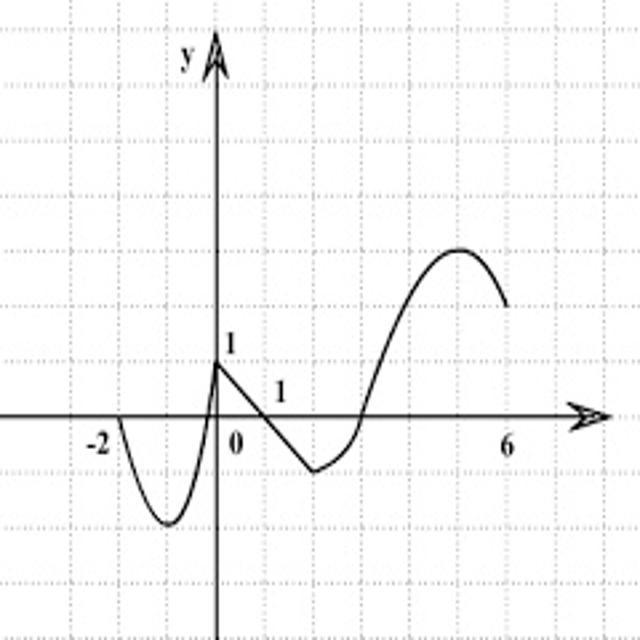axis: (208, 23, 227, 640), (0, 408, 616, 425)
line: (114, 244, 510, 531)
